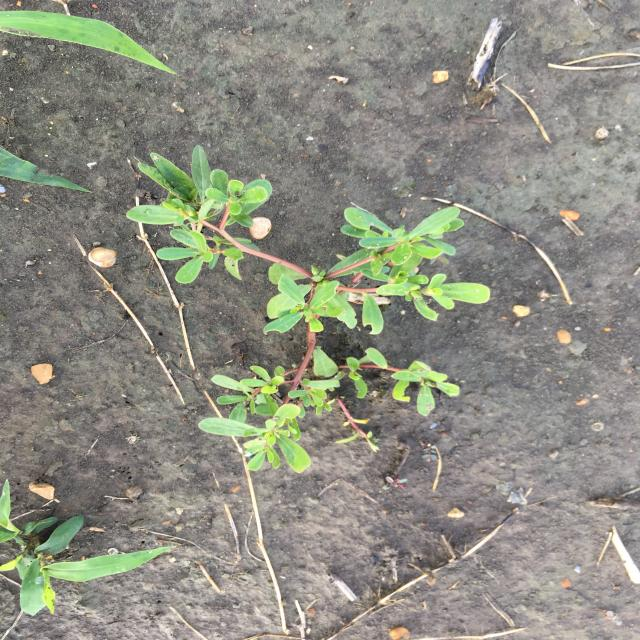Purslane: (125, 168, 491, 474)
